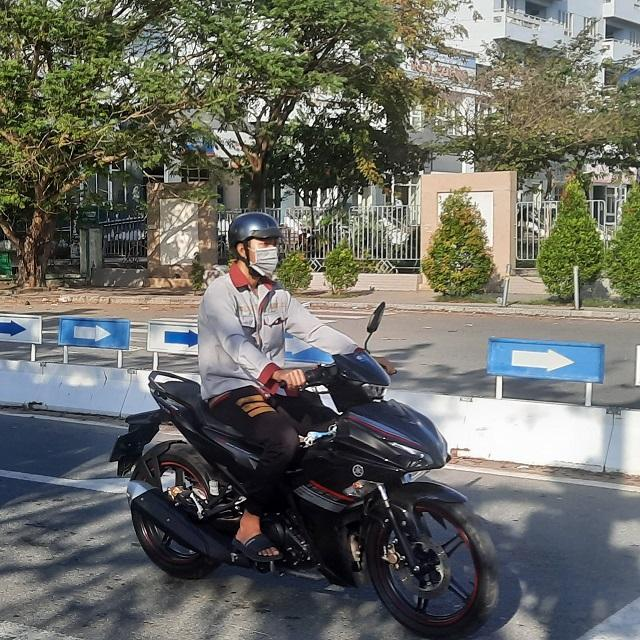Helmet: (222, 208, 282, 280)
